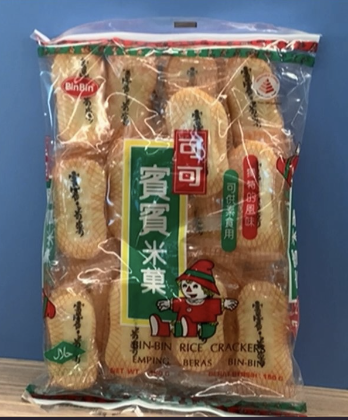crackers_150g: (53, 58, 279, 379)
